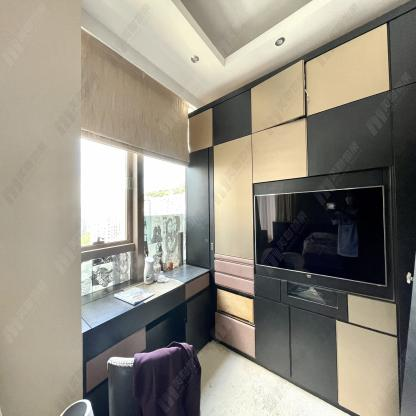Closet: (185, 0, 415, 416)
Desk: (80, 262, 212, 363)
